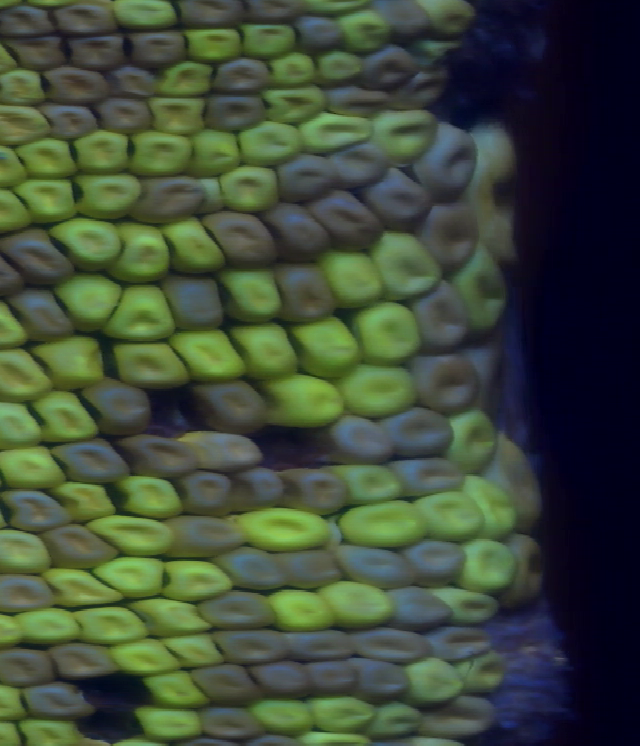fluorescent: (367, 225, 451, 308), (447, 239, 513, 341), (346, 297, 428, 373), (232, 504, 343, 560), (335, 360, 428, 425), (334, 494, 435, 553), (163, 325, 255, 389), (99, 216, 179, 288), (258, 370, 348, 434), (286, 310, 365, 382), (105, 335, 197, 396), (50, 267, 130, 337), (29, 330, 114, 395), (212, 262, 293, 330), (224, 317, 305, 385), (100, 280, 184, 345), (46, 213, 130, 277), (86, 511, 186, 564), (313, 245, 393, 311), (361, 104, 441, 169), (412, 484, 493, 548), (158, 212, 234, 280), (455, 469, 523, 541), (438, 404, 504, 478), (316, 577, 400, 635), (69, 165, 149, 224), (263, 582, 345, 639), (127, 592, 214, 645), (293, 108, 385, 158), (328, 456, 413, 510), (39, 561, 130, 610), (113, 469, 189, 527), (32, 386, 103, 448), (457, 534, 523, 599), (124, 124, 200, 180), (93, 551, 173, 604), (0, 440, 74, 497), (158, 555, 238, 607), (402, 653, 473, 711), (426, 581, 508, 630), (232, 118, 309, 170), (11, 177, 85, 230), (73, 603, 153, 652), (302, 690, 385, 737), (69, 125, 139, 180), (0, 340, 58, 406), (258, 81, 335, 130), (48, 474, 120, 526), (245, 693, 324, 740), (140, 92, 214, 142), (103, 632, 185, 677), (182, 125, 249, 180), (128, 701, 213, 744), (141, 667, 217, 714), (10, 605, 88, 650), (13, 134, 86, 182), (156, 630, 233, 675), (450, 645, 509, 700), (402, 32, 470, 79), (232, 19, 303, 64), (0, 525, 57, 581), (0, 99, 60, 152), (415, 1, 483, 47), (332, 5, 393, 56), (178, 24, 248, 68), (153, 58, 222, 102), (0, 395, 53, 452), (0, 63, 58, 111), (363, 700, 427, 742), (308, 45, 367, 90), (108, 1, 187, 34), (265, 50, 326, 91), (12, 714, 87, 746), (0, 290, 36, 353), (0, 182, 38, 239), (0, 139, 32, 197), (0, 679, 33, 725), (0, 608, 33, 653), (0, 715, 31, 746)
nonfluorescent: (459, 115, 528, 268), (479, 427, 551, 535), (304, 183, 392, 257), (410, 117, 483, 205), (400, 349, 488, 419), (415, 192, 483, 281), (198, 206, 287, 274), (255, 198, 341, 268), (359, 164, 440, 238), (404, 275, 477, 357), (0, 222, 85, 292), (269, 257, 345, 330), (80, 375, 162, 441), (48, 432, 141, 490), (189, 375, 276, 437), (376, 402, 462, 464), (154, 271, 232, 338), (456, 325, 513, 416), (330, 540, 425, 594), (173, 425, 268, 479), (493, 526, 550, 613), (129, 171, 213, 230), (3, 284, 80, 348), (323, 411, 404, 471), (114, 428, 205, 481), (155, 511, 253, 560), (270, 150, 348, 210), (208, 542, 296, 595), (37, 520, 123, 574), (400, 535, 474, 594), (414, 691, 503, 740), (196, 585, 283, 635), (342, 653, 418, 710), (342, 623, 436, 669), (273, 463, 354, 516), (381, 583, 463, 635), (384, 452, 476, 498), (188, 660, 269, 712), (323, 139, 396, 196), (0, 483, 77, 536), (384, 55, 452, 115), (37, 60, 116, 111), (15, 676, 98, 724), (120, 22, 196, 74), (353, 43, 422, 100), (267, 545, 348, 592), (207, 625, 294, 668), (199, 88, 273, 138), (243, 656, 320, 704), (168, 466, 237, 519), (205, 54, 279, 103), (188, 701, 274, 743), (62, 26, 132, 77), (44, 639, 123, 684), (418, 620, 496, 664), (33, 98, 106, 145), (368, 1, 445, 45), (0, 642, 66, 693), (92, 93, 160, 140), (2, 30, 73, 75), (226, 465, 291, 514), (281, 626, 361, 665), (319, 81, 394, 122), (288, 10, 352, 58), (300, 656, 364, 703), (47, 1, 123, 40), (0, 569, 58, 619), (101, 62, 163, 104), (174, 1, 254, 32), (0, 3, 59, 40), (0, 235, 32, 303), (238, 1, 310, 28)
